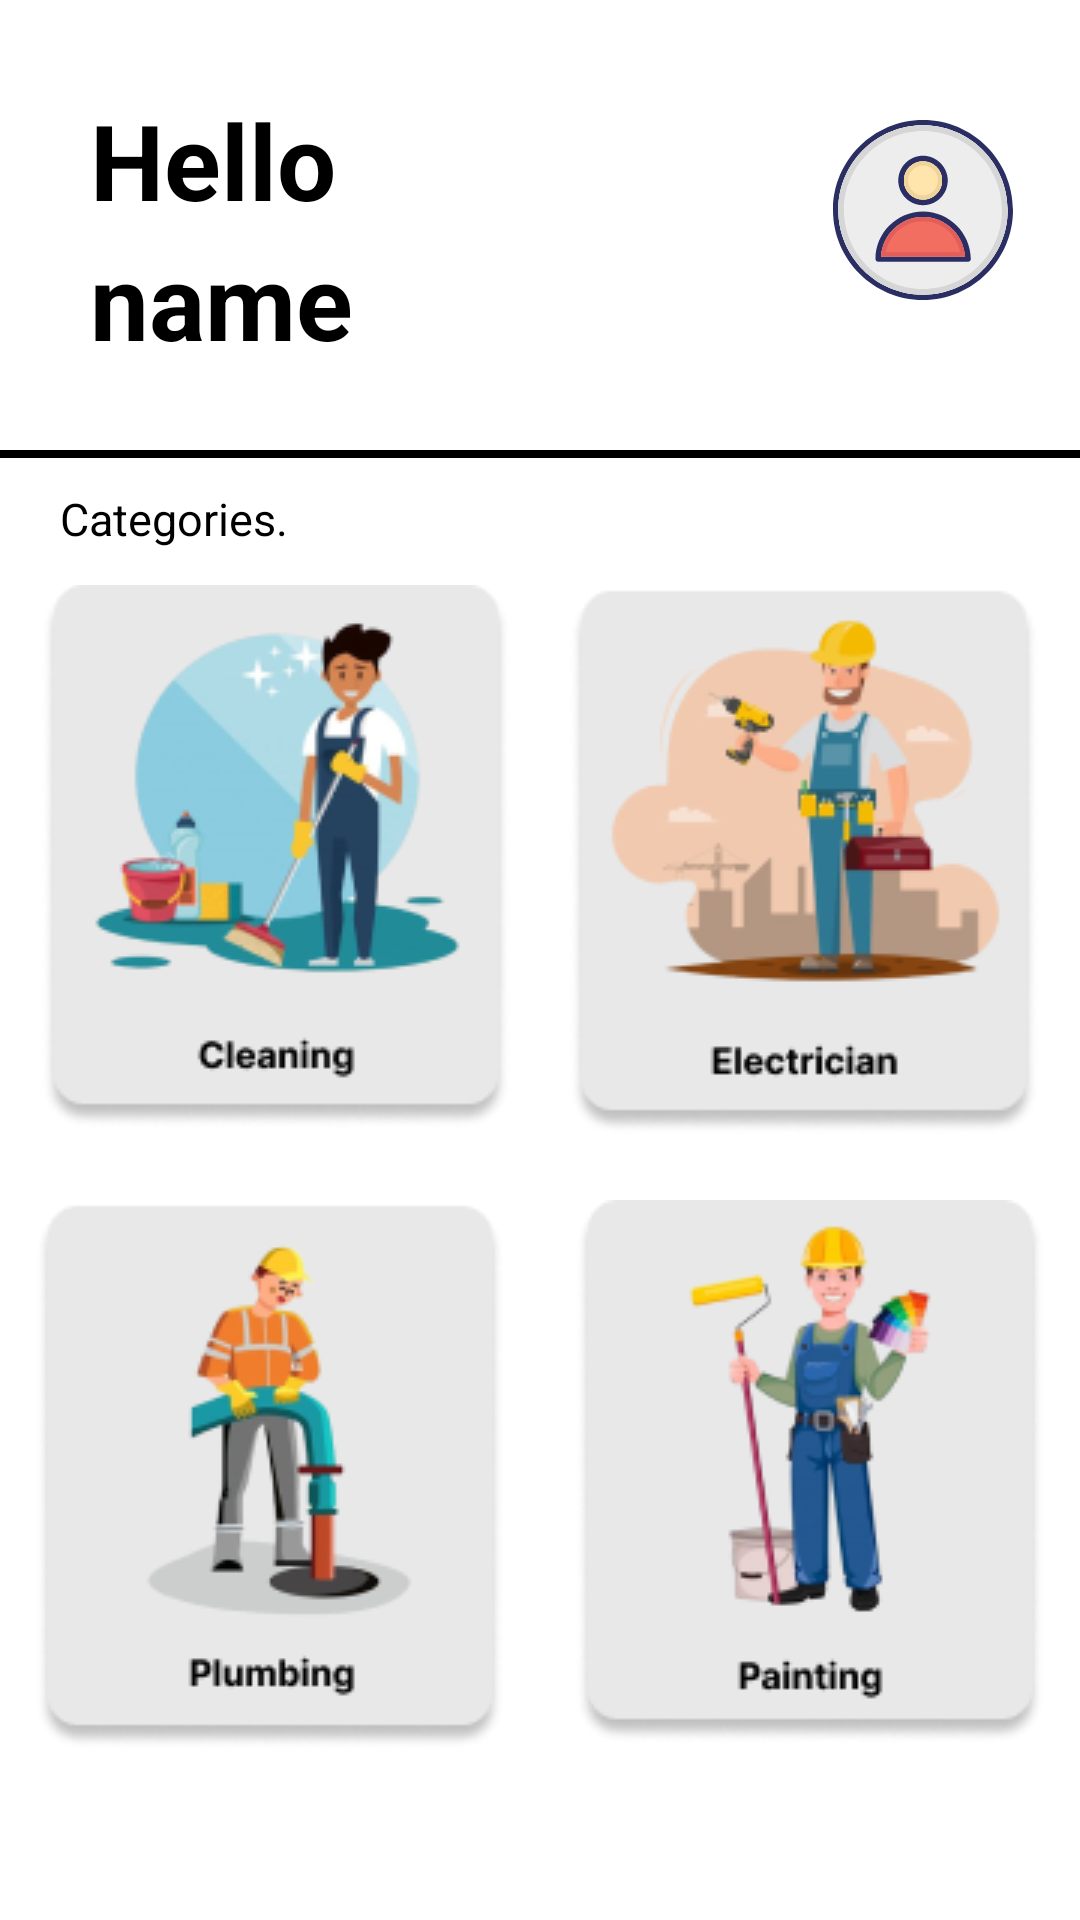

Locate icon controls on the screen. Image size 1080 x 1920, boxes as (x1, y1, x2, y2).
profile: (833, 120, 1013, 300)
